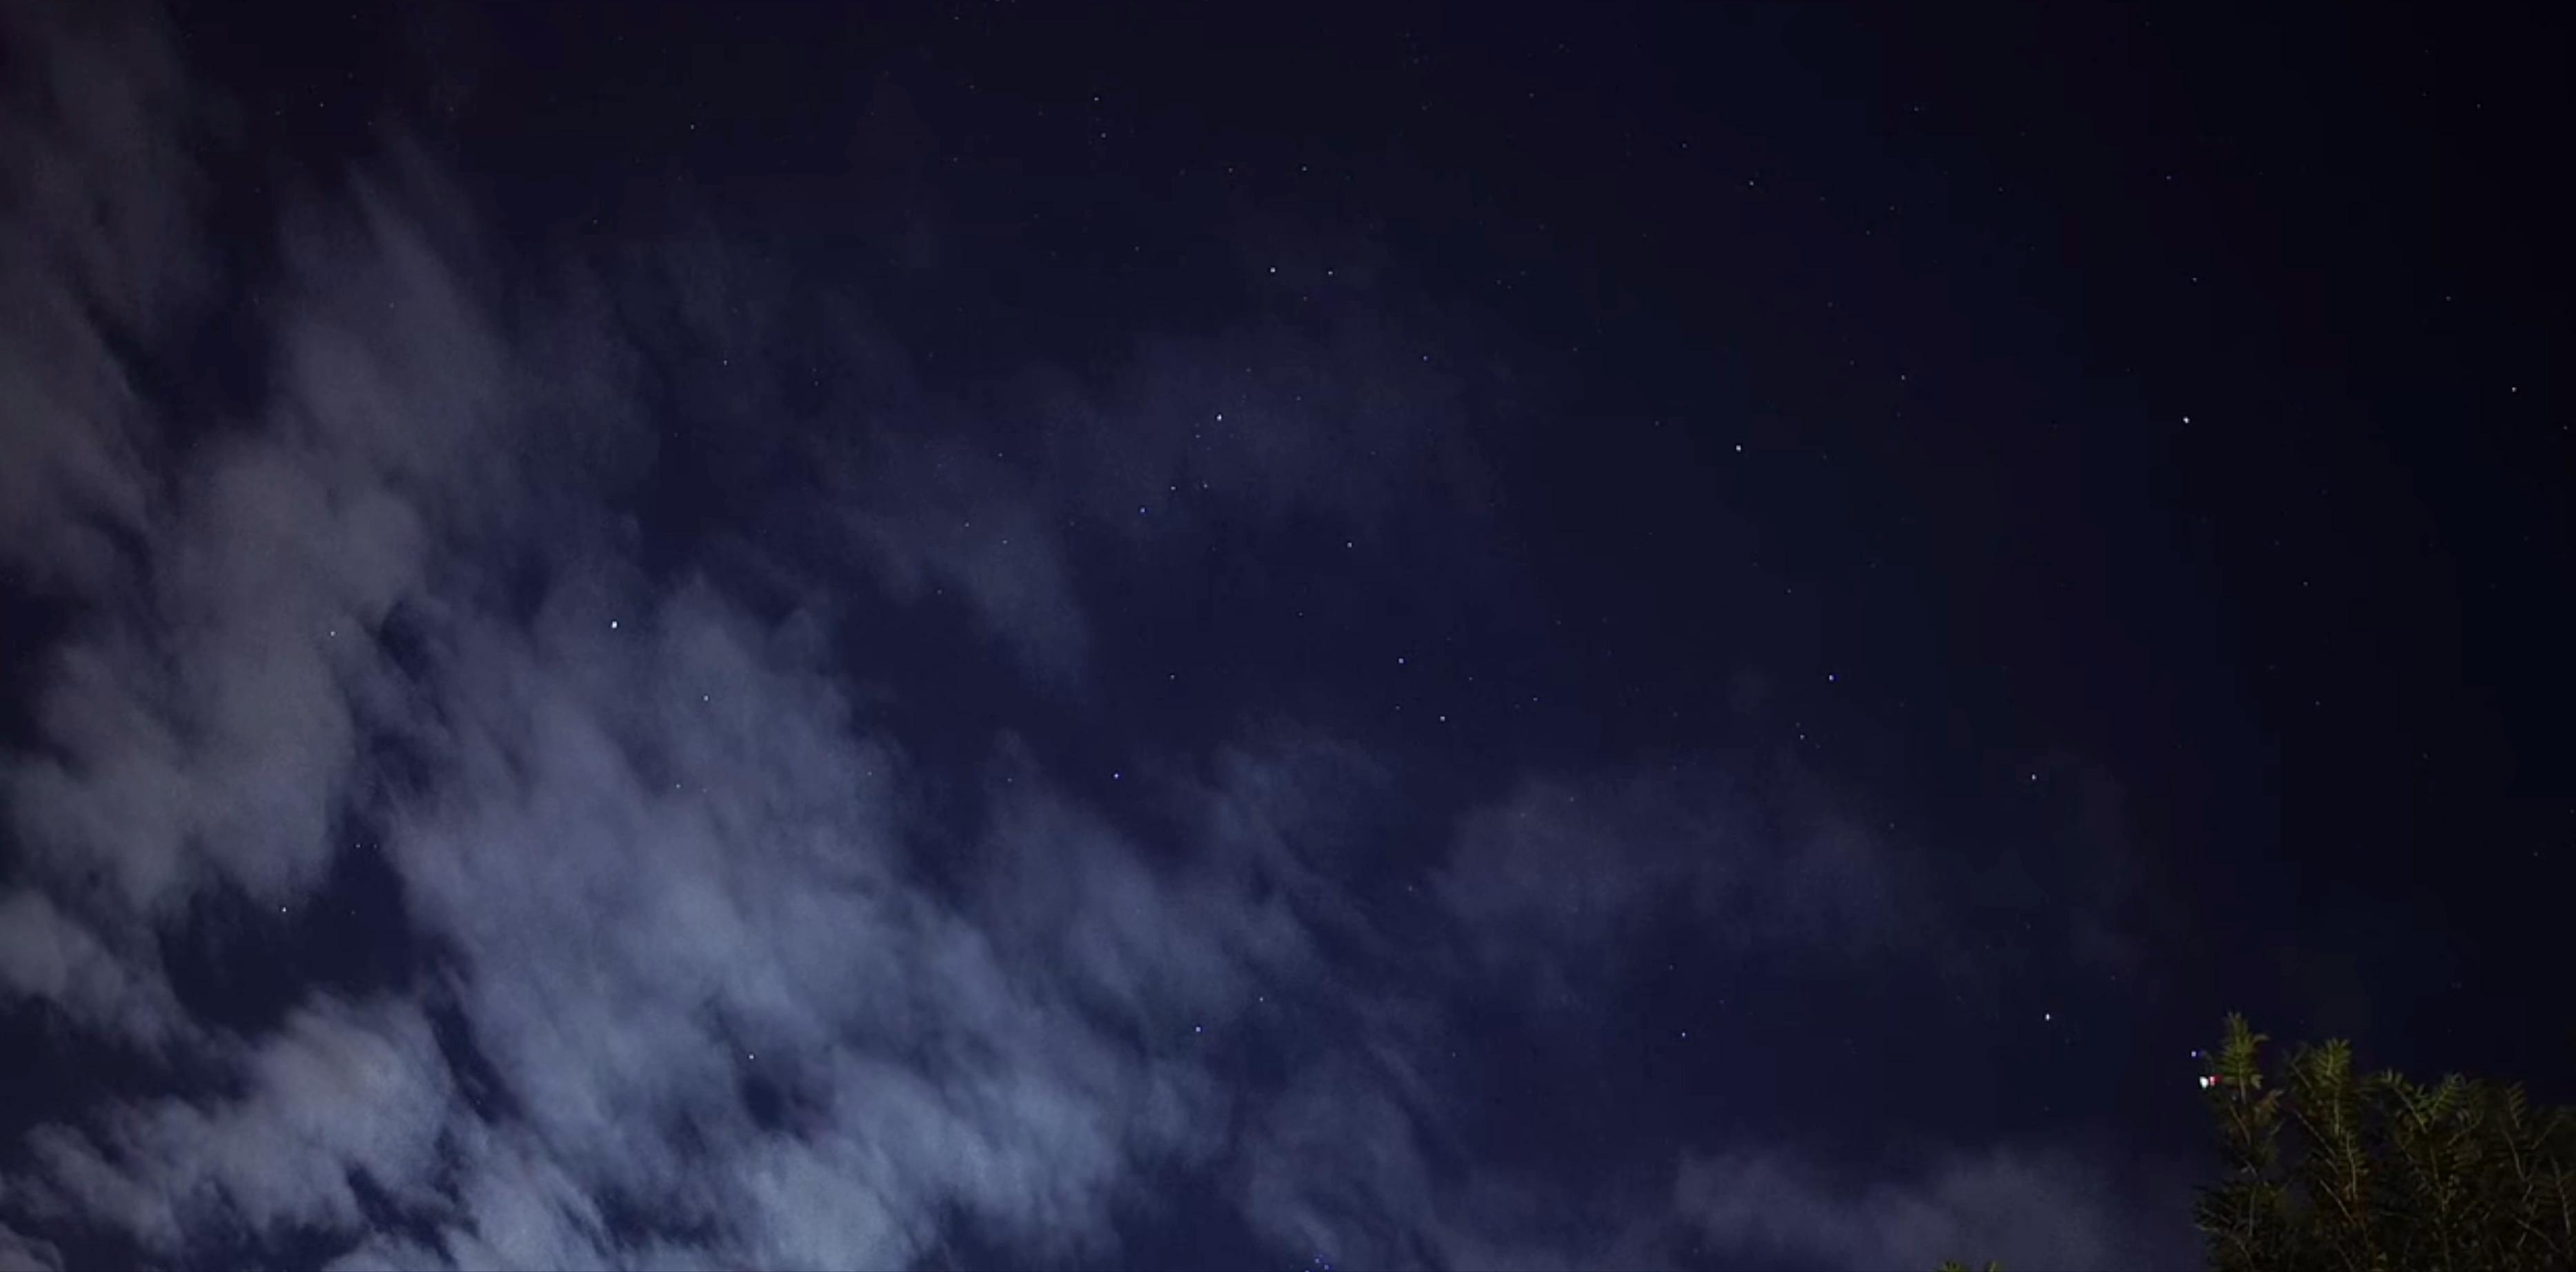Plane: (2177, 1067, 2231, 1101)
